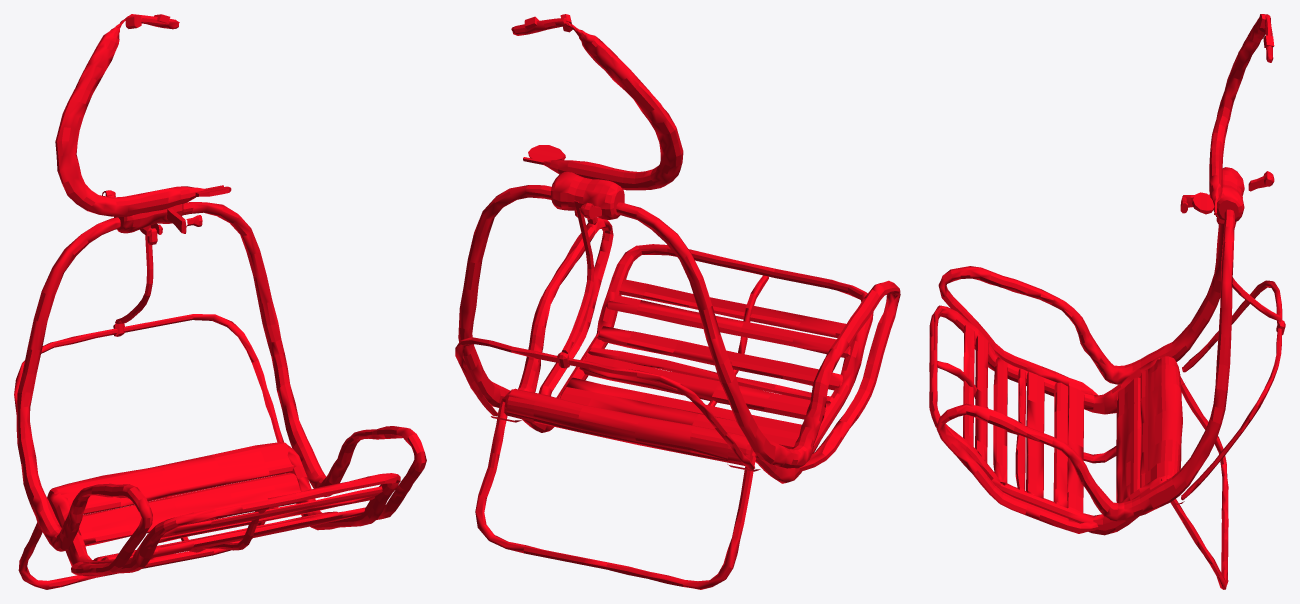
The model's file is park_liftChair_noWire.glb.
The picture shows the model from 3 angles, left to right: view 1: azimuth 30°, elevation 25°; view 2: azimuth 150°, elevation 25°; view 3: azimuth 270°, elevation 25°; orthographic projection. The views are drawn at different scales.
Visible parts, largest first — view 1: park_liftChair_noWire; view 2: park_liftChair_noWire; view 3: park_liftChair_noWire.
Part boxes in pixels (left/top/right/bottom): park_liftChair_noWire: left=14, top=14, right=426, bottom=589; park_liftChair_noWire: left=455, top=14, right=900, bottom=589; park_liftChair_noWire: left=929, top=14, right=1285, bottom=589.
Bounding box in the file's own units: 0.1233 × 0.2221 × 0.134.
